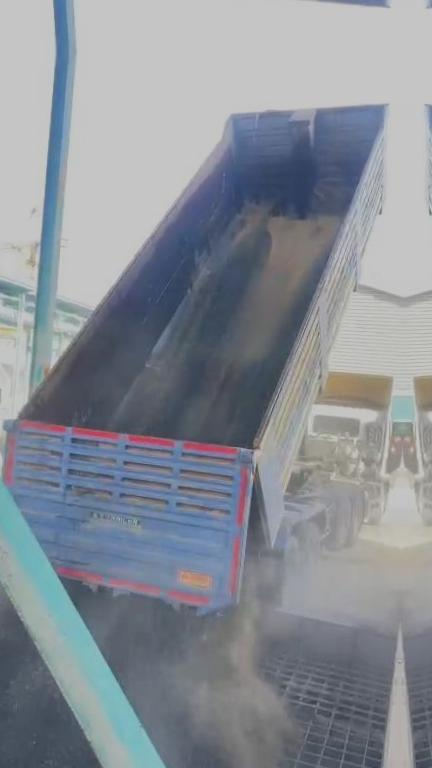gravel: (69, 585, 290, 768), (114, 210, 270, 438), (0, 605, 126, 768)
